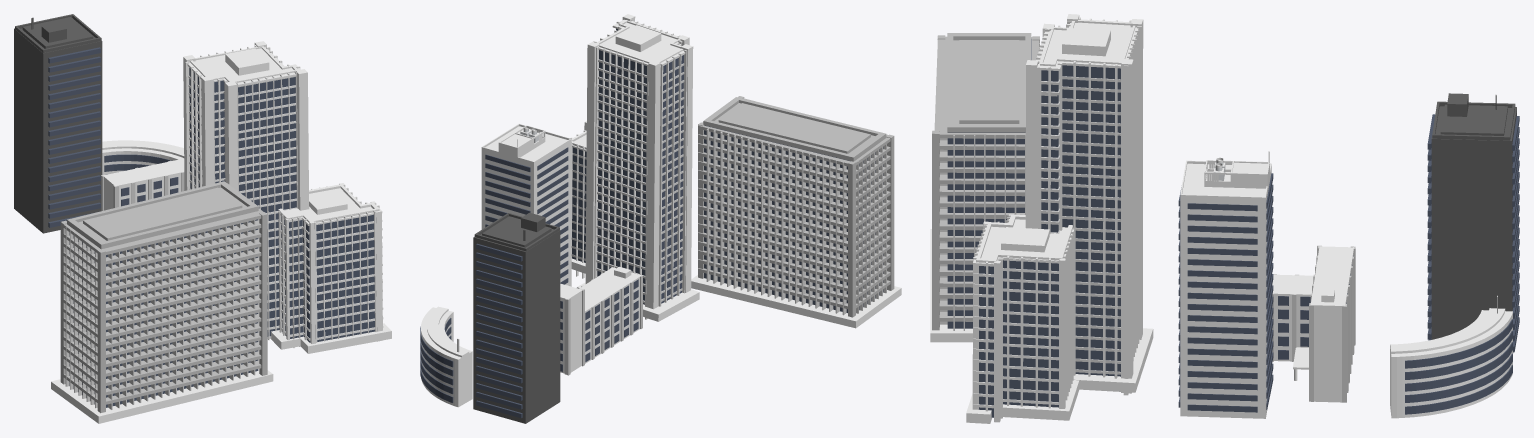
File: build.glb
The picture shows the model from 3 angles, left to right: view 1: azimuth 30°, elevation 25°; view 2: azimuth 150°, elevation 25°; view 3: azimuth 270°, elevation 25°; orthographic projection. The views are drawn at different scales.
Visible parts, largest first — view 1: 立方体.003, 立方体.036, 立方体.005, 立方体.034, pasted__pasted__pasted__pasted__pasted__pasted__pCube3 paste, 立方体.002, group34 pasted__pasted__pasted__pasted__pasted__pasted__past, pasted__pasted__pasted__pasted__pasted__pasted__pasted__pas. (×7), 立方体, 立方体.004, 立方体.006, 立方体.001 (+30 smaller); view 2: 立方体.003, 立方体.005, 立方体.036, Group_001, group32 pasted__pasted__pasted__pasted__pasted__pasted__past, 立方体.001, 立方体.002, 立方体.035, pasted__pasted__pasted__pasted__pasted__pasted__pasted__pas. (×3), group32 pasted__pasted__pCube2 pasted__group6, 立方体, 立方体.004 (+30 smaller); view 3: Group_001, 立方体.036, pasted__pasted__pasted__pasted__pasted__pasted__pasted__pCub (×2), 立方体.009, pasted__pasted__pasted__pasted__pasted__pasted__pasted__pas. (×3), 立方体.002, 立方体.003, 立方体.001, 立方体.040, 立方体.014, pasted__pasted__pasted__group15_pasted__group14_pasted__past, 立方体.038 (+40 smaller).
Part boxes in pixels (<box>): 立方体.003: <box>63,208,263,404</box>; 立方体.036: <box>14,18,102,233</box>; 立方体.005: <box>108,220,255,409</box>; 立方体.034: <box>48,47,100,227</box>; pasted__pasted__pasted__pasted__pasted__pasted__pCube3 paste: <box>238,77,296,336</box>; 立方体.002: <box>67,181,258,249</box>; group34 pasted__pasted__pasted__pasted__pasted__pasted__past: <box>316,214,374,341</box>; pasted__pasted__pasted__pasted__pasted__pasted__pasted__pas. (×7): <box>189,66,303,338</box>; 立方体: <box>60,183,267,413</box>; 立方体.004: <box>65,208,259,408</box>; 立方体.006: <box>51,369,273,423</box>; 立方体.001: <box>69,219,258,407</box>; 立方体.003: <box>698,98,890,309</box>; 立方体.005: <box>706,128,846,315</box>; 立方体.036: <box>473,229,560,423</box>; Group_001: <box>481,123,571,286</box>; group32 pasted__pasted__pasted__pasted__pasted__pasted__past: <box>597,50,646,304</box>; 立方体.001: <box>704,125,883,312</box>; 立方体.002: <box>703,97,886,161</box>; 立方体.035: <box>476,243,522,418</box>; pasted__pasted__pasted__pasted__pasted__pasted__pasted__pas. (×3): <box>661,55,683,303</box>; group32 pasted__pasted__pCube2 pasted__group6: <box>646,60,660,318</box>; 立方体: <box>698,96,894,317</box>; 立方体.004: <box>856,144,886,313</box>; Group_001: <box>1180,151,1271,418</box>; 立方体.036: <box>1431,106,1516,352</box>; pasted__pasted__pasted__pasted__pasted__pasted__pasted__pCub (×2): <box>1040,19,1135,376</box>; 立方体.009: <box>1187,203,1257,412</box>; pasted__pasted__pasted__pasted__pasted__pasted__pasted__pas. (×3): <box>1003,62,1090,407</box>; 立方体.002: <box>947,33,1031,132</box>; 立方体.003: <box>934,36,1039,321</box>; 立方体.001: <box>947,39,1031,328</box>; 立方体.040: <box>1405,319,1512,414</box>; 立方体.014: <box>1310,246,1353,402</box>; pasted__pasted__pasted__group15_pasted__group14_pasted__past: <box>1062,76,1120,374</box>; 立方体.038: <box>1390,310,1512,418</box>.
Size of the model in its own units: 13.34 by 11.41 by 17.92.
